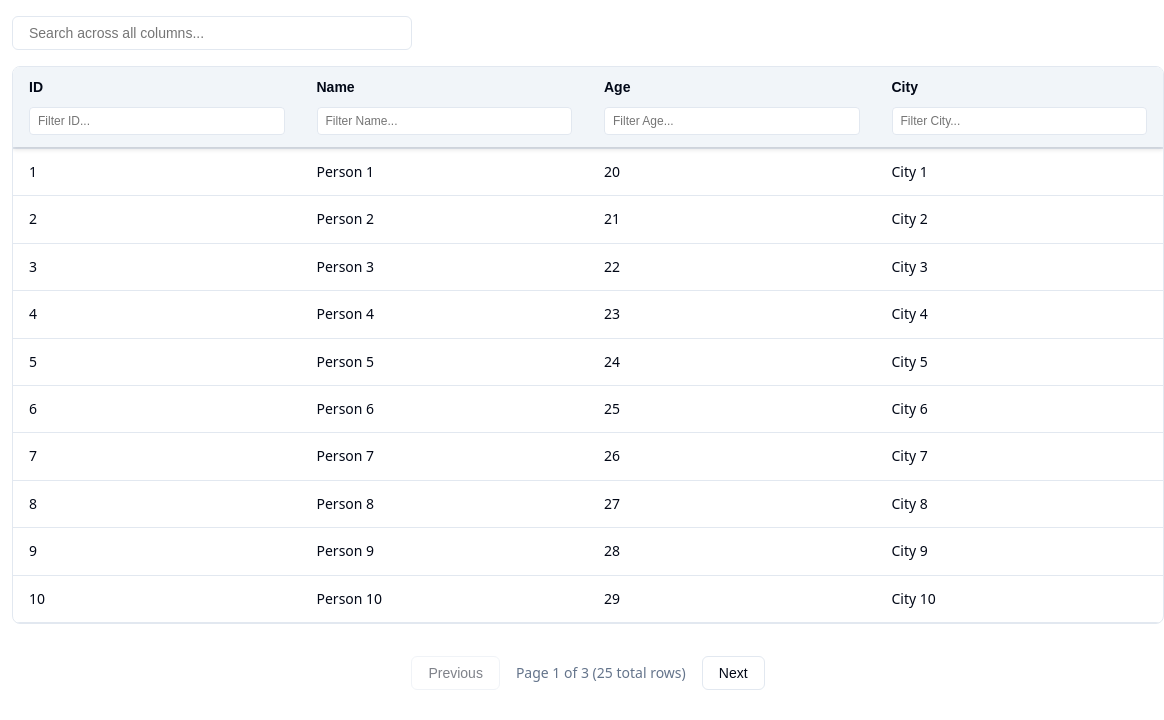
Test: InteractiveTable › Pagination › should disable next button on last page
Note: Navigate to last page (page 3 for 25 items with pageSize 10)
Click the button "Next": (733, 673) [702,656,765,690]
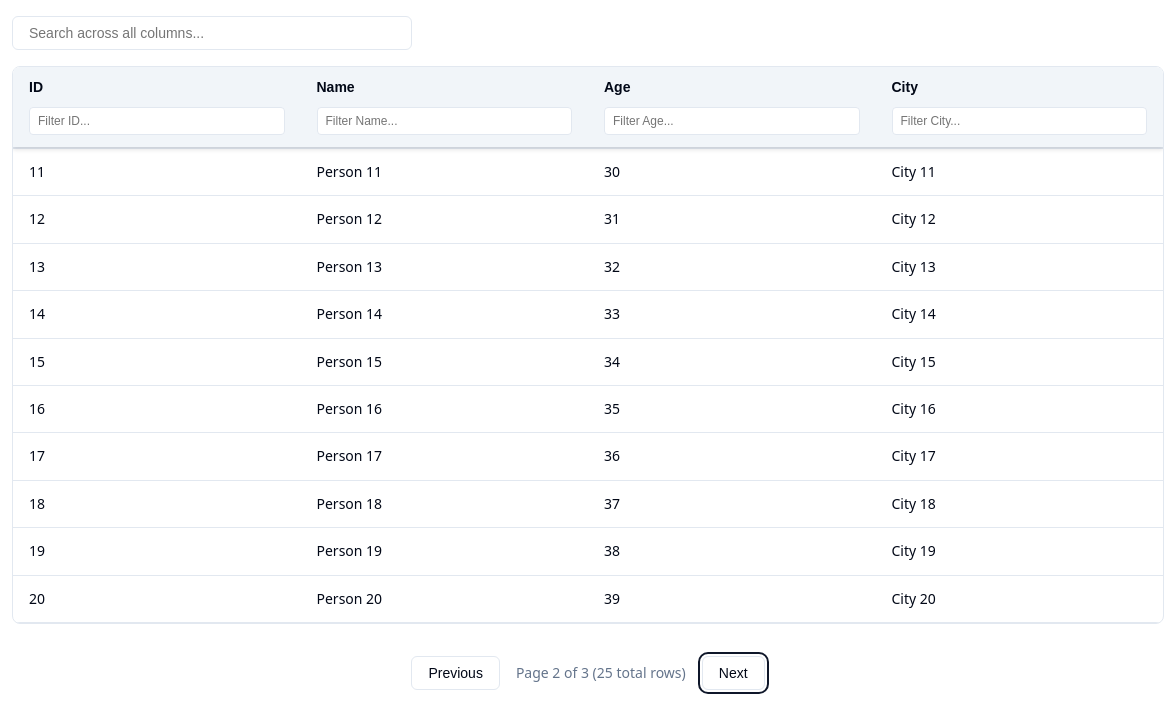
Click the button "Next": (733, 673) [702,656,765,690]
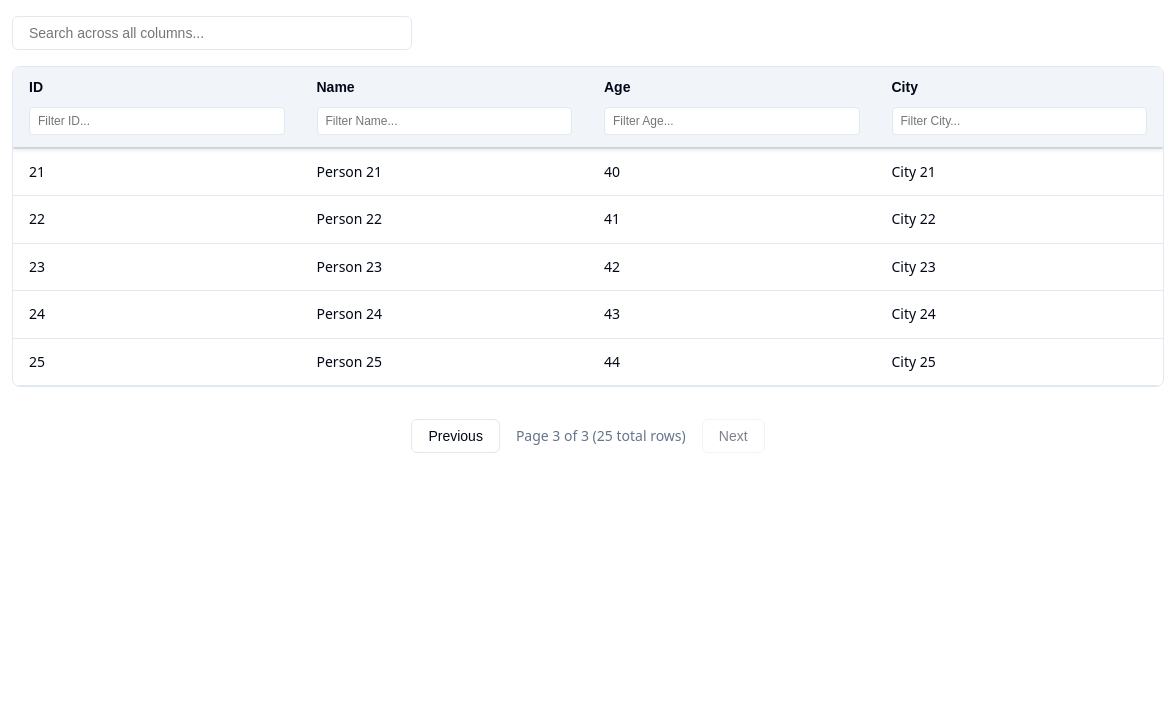
Now the button "Next" is disabled, box [702,419,765,453]
